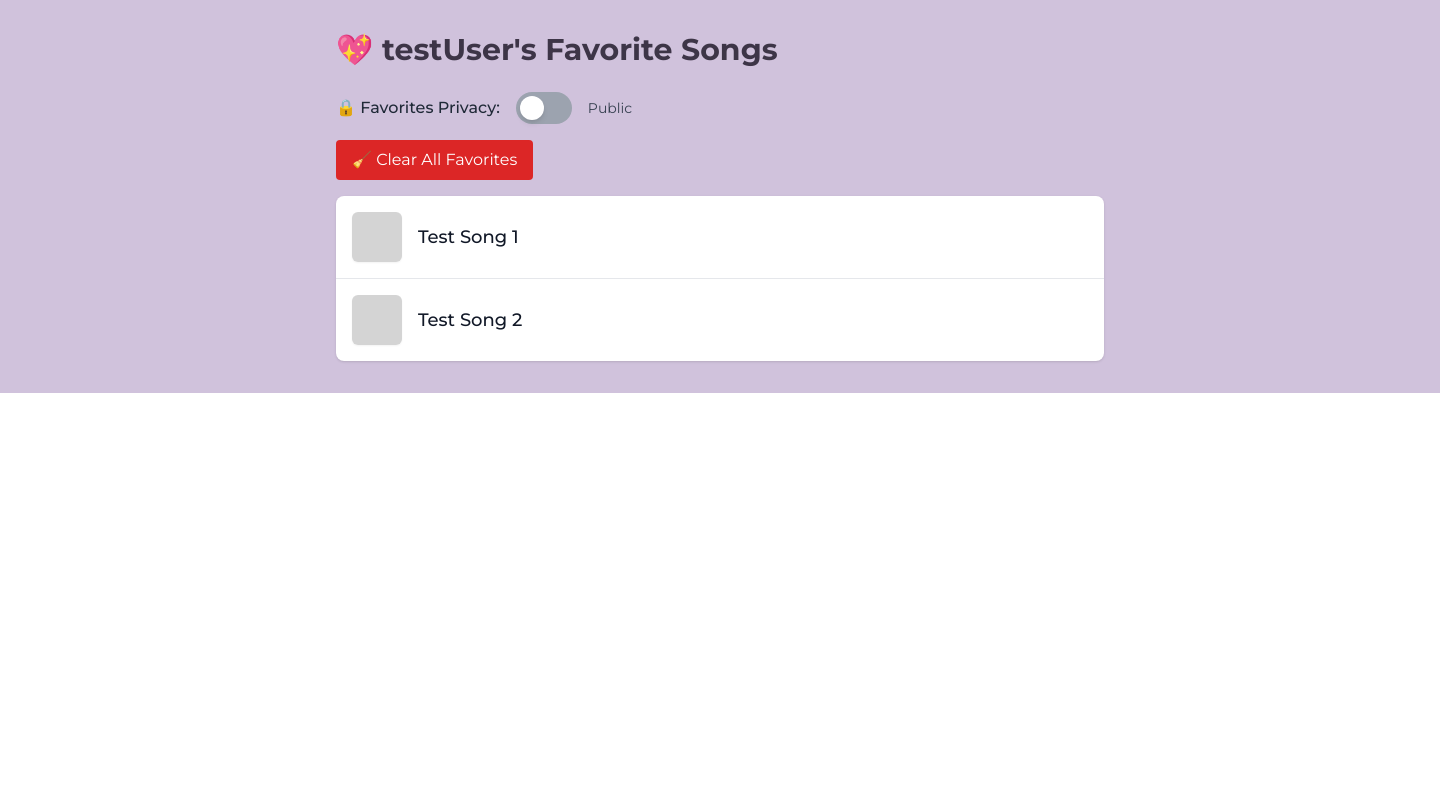
Test: Favorites Component › removes song when confirming removal
The width and height of the screenshot is (1440, 810).
Expected: the text "Test Song 1" is shown, [418,226,519,248]
// Hover over song to show buttons
Hover over the button "Test Song 1".
mouse_move(377, 237)  # box [336,196,1104,279]
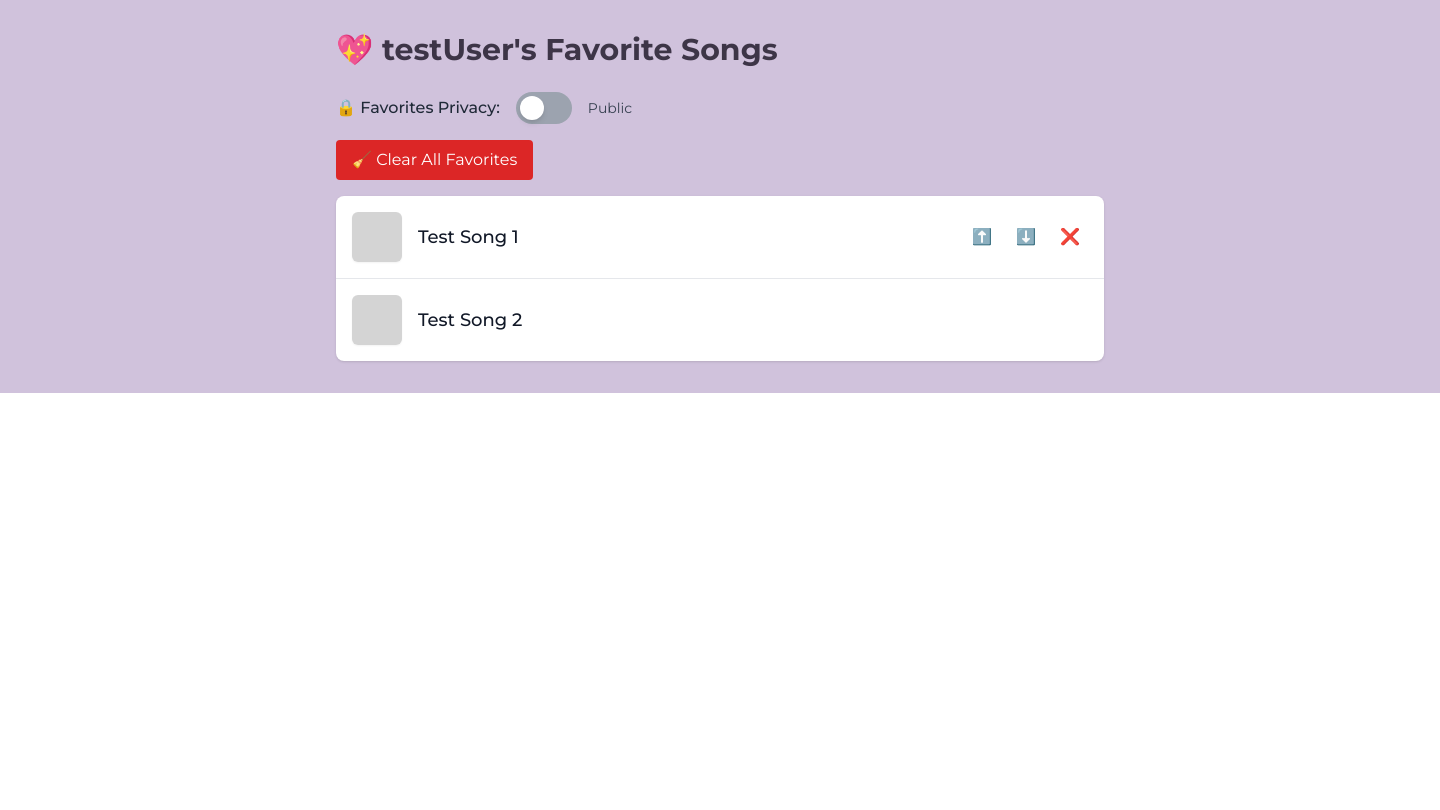
// Click remove button
Click the button named "Remove".
click(1070, 237)  # box [1052,221,1088,253]
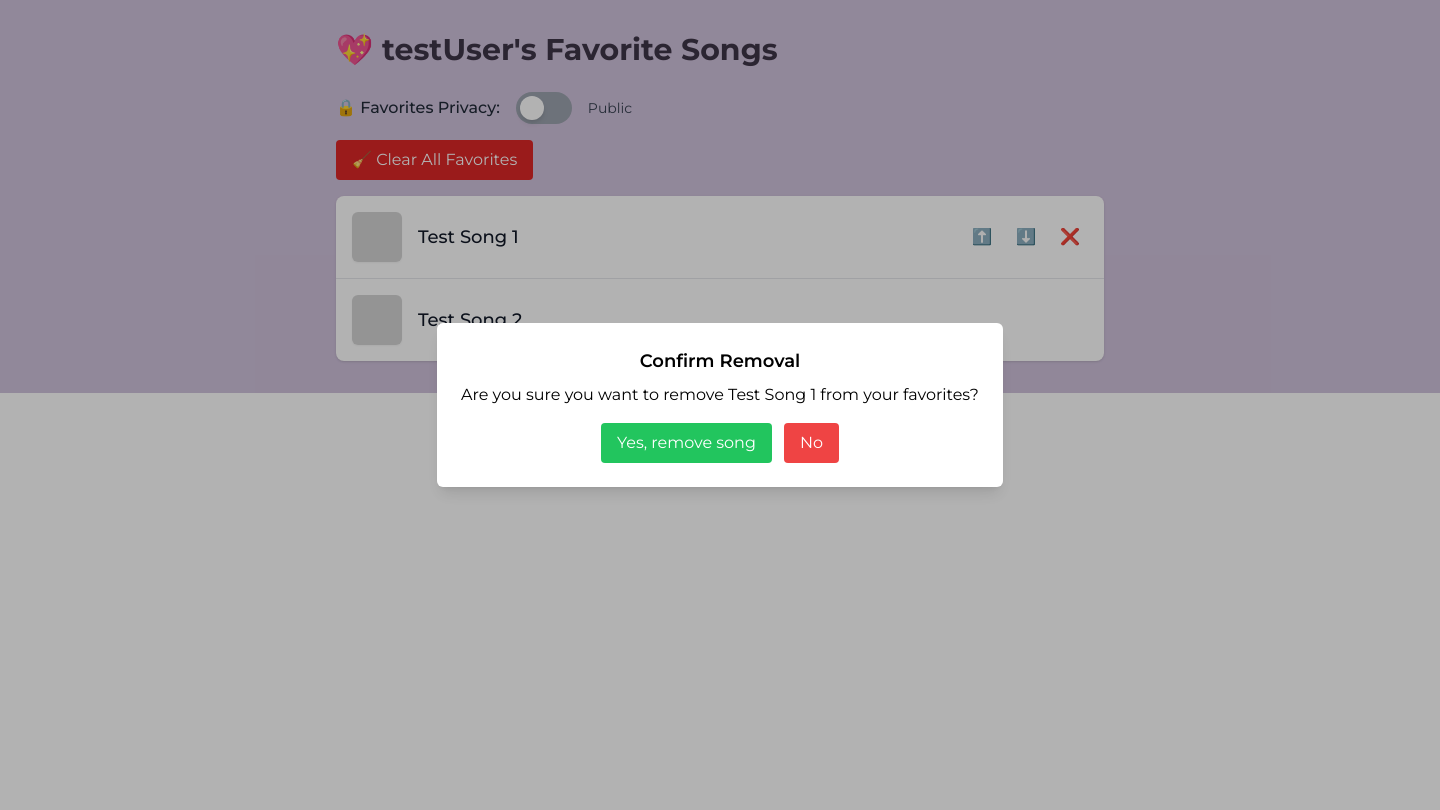
// Click confirm button
Click the button "Yes, remove song".
click(686, 443)  # box [601,423,772,463]
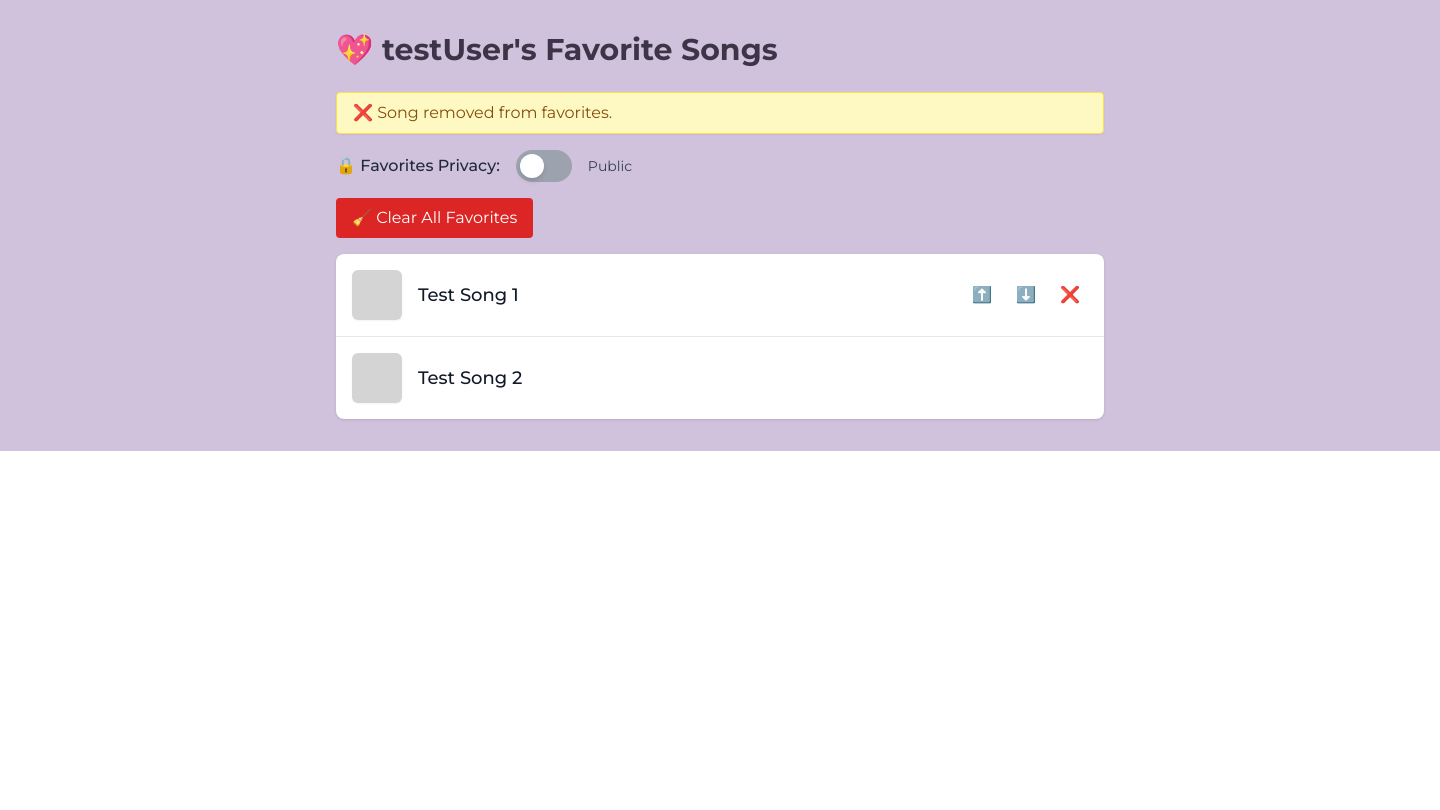
Expected: the text "❌ Song removed from favorites." is shown, [336,92,1104,134]
